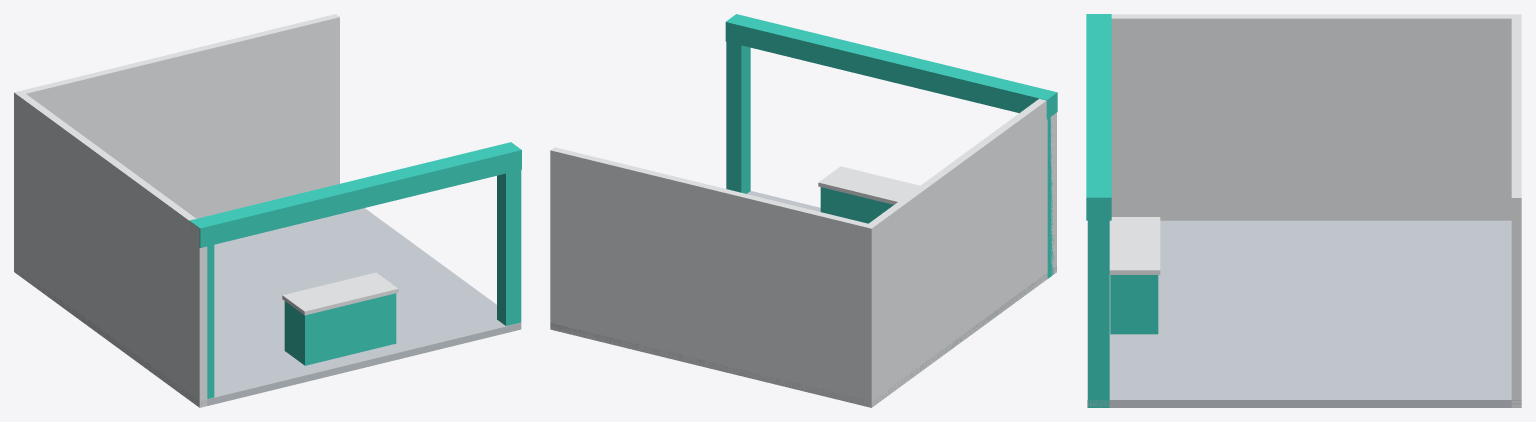
3 views of the same model, side by side, from view 1: azimuth 30°, elevation 25°; view 2: azimuth 150°, elevation 25°; view 3: azimuth 270°, elevation 25° (orthographic). The views are drawn at different scales.
Parts seen in each view (by area): view 1: Exhibition Booth Concept; view 2: Exhibition Booth Concept; view 3: Exhibition Booth Concept.
Boxes of the visible parts, <box> form: Exhibition Booth Concept: <box>14,14,521,407</box>; Exhibition Booth Concept: <box>550,14,1057,407</box>; Exhibition Booth Concept: <box>1086,14,1521,407</box>.
Size of the model in its own units: 6 by 3.2 by 6.02.
